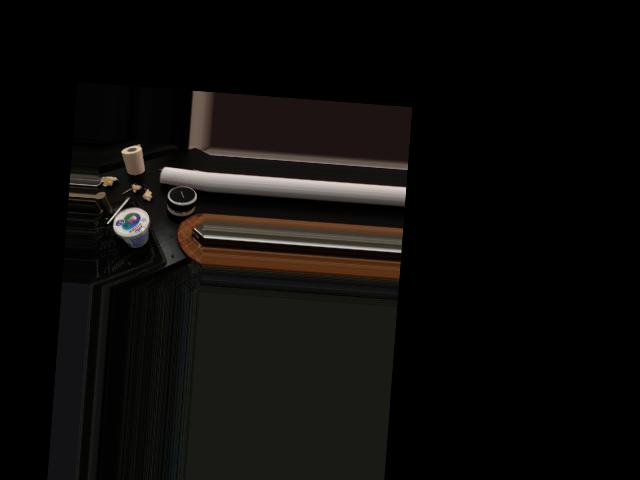cotage: (110, 208, 148, 251)
